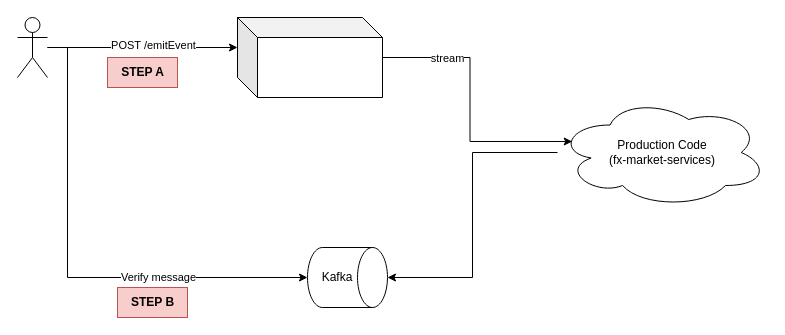
Image size: 785x335. Some labels were removed from this diagram. The shapes that lost their labels are listed below. From the top down, each one's centre as x and y in pixels, then its label:
point 32,47: Test
point 309,57: market-data-stub
